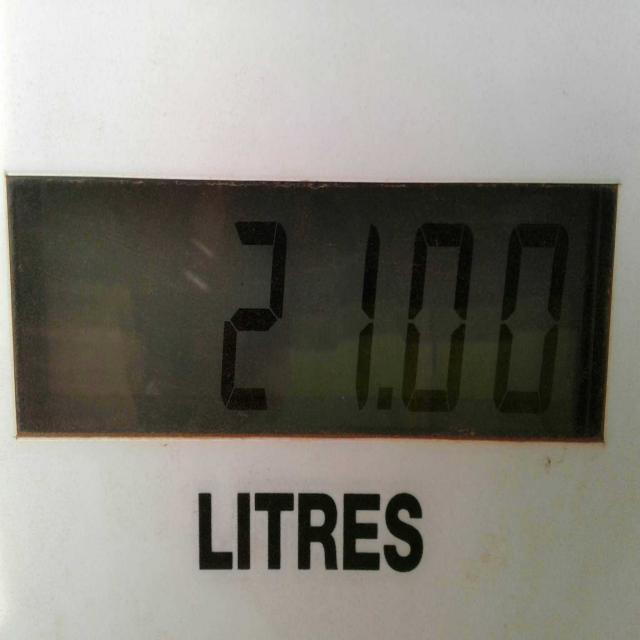.: (373, 382, 398, 416)
0: (494, 222, 570, 414), (402, 218, 473, 412)
1: (346, 216, 388, 419)
2: (214, 215, 290, 420)
screen: (10, 170, 616, 453)
